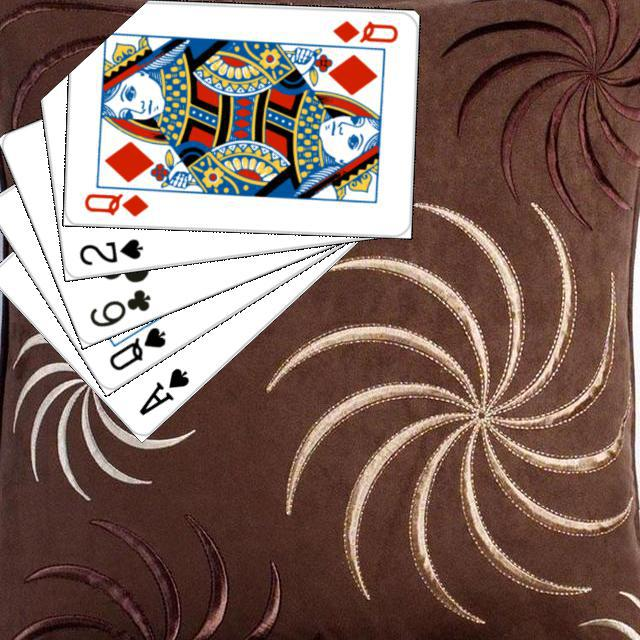2s: (74, 233, 145, 267)
6c: (84, 284, 153, 329)
As: (133, 362, 191, 418)
Qd: (327, 15, 400, 45), (80, 188, 150, 218)
Qs: (104, 322, 168, 373)
